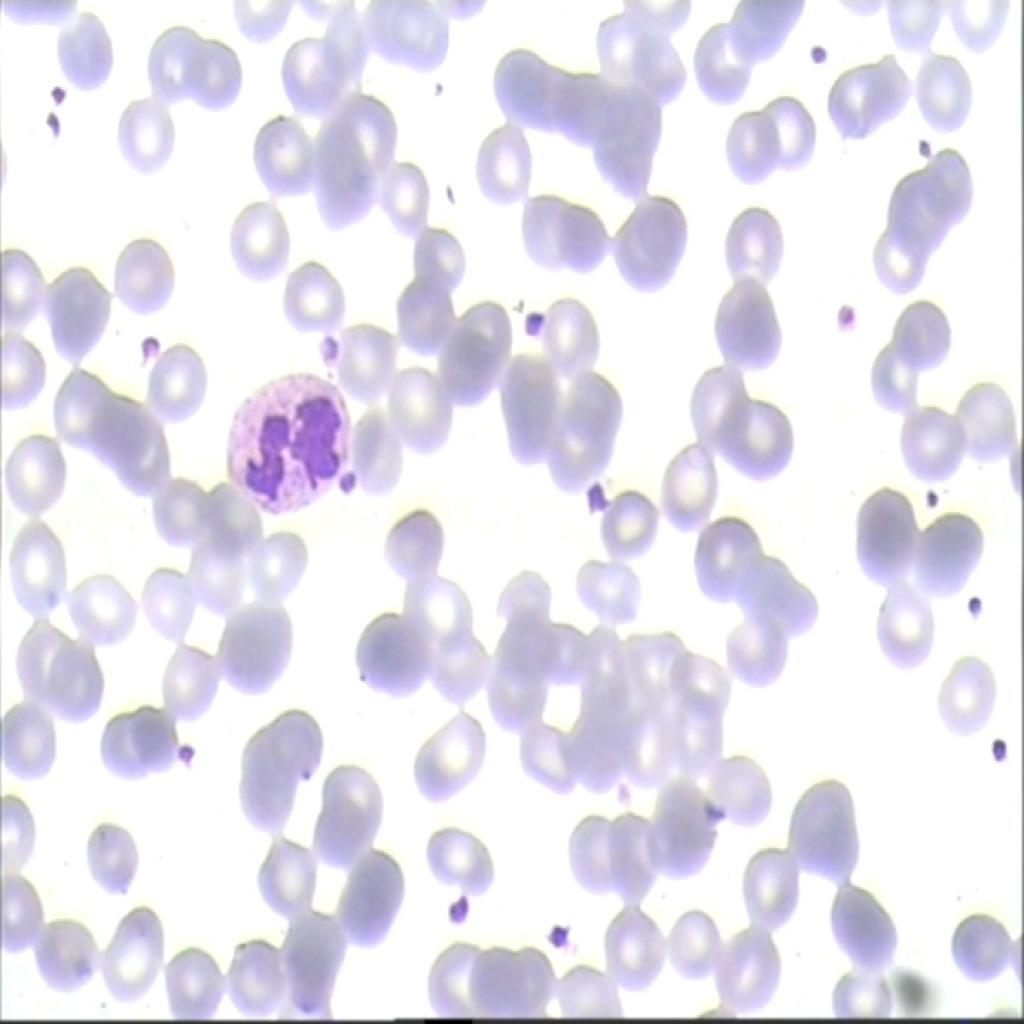Neutrofil: (210, 359, 352, 530)
Platelet: (903, 117, 954, 178), (436, 880, 486, 940), (957, 582, 1000, 636), (798, 30, 840, 82), (509, 290, 552, 336), (980, 720, 1011, 777), (166, 730, 202, 778), (539, 907, 575, 953), (822, 295, 855, 341), (920, 476, 953, 522), (578, 468, 604, 522), (696, 786, 728, 828), (38, 71, 70, 105), (43, 110, 68, 144), (134, 332, 158, 362), (316, 331, 336, 361)
